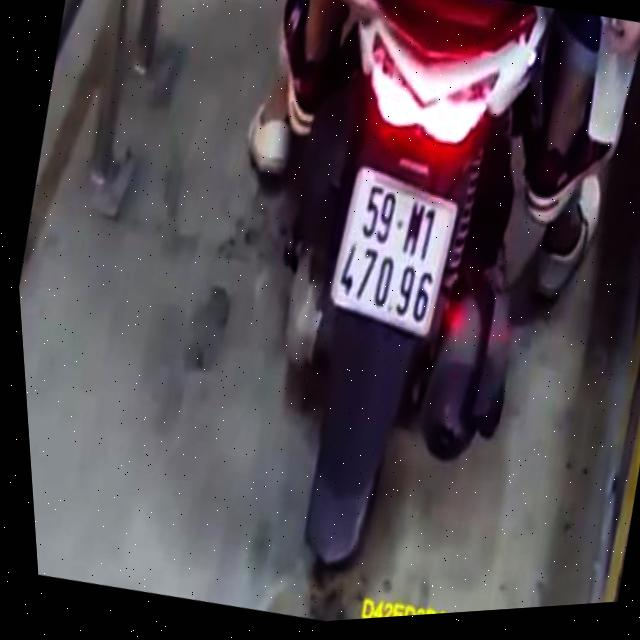motorcycle: (187, 0, 618, 628)
plate: (307, 147, 481, 348)
